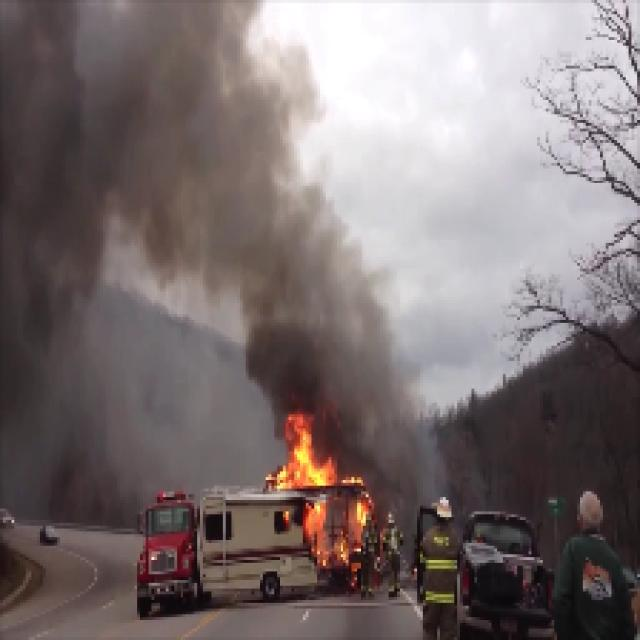fire: (270, 419, 374, 577)
smoke: (2, 1, 268, 391), (274, 114, 384, 412)
